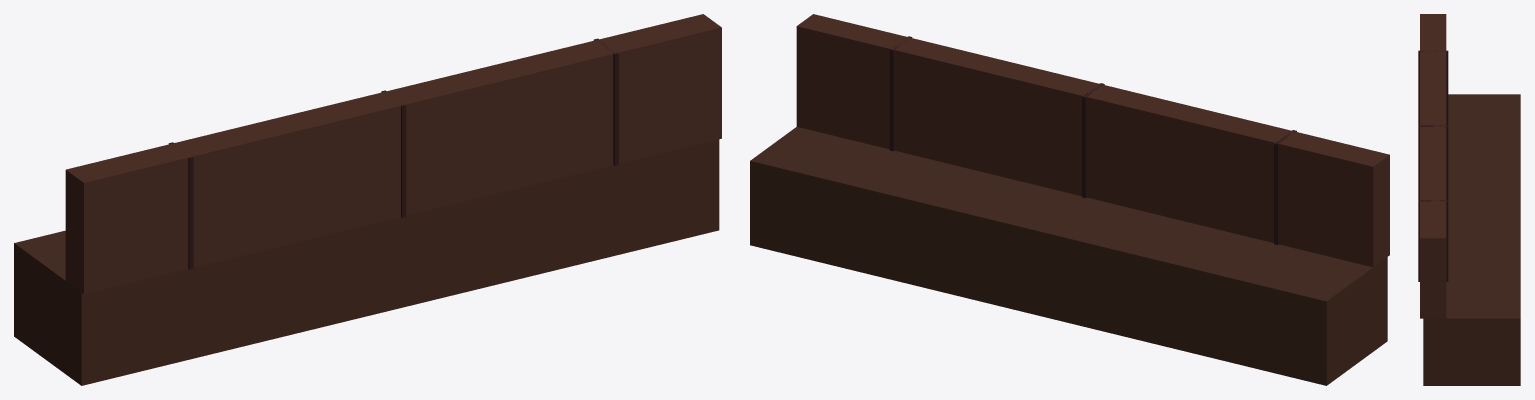
File: sofa_bench.glb
3 renders of one model, left to right at view 1: azimuth 30°, elevation 25°; view 2: azimuth 150°, elevation 25°; view 3: azimuth 270°, elevation 25°, orthographic. The views are drawn at different scales.
Parts seen in each view (by area): view 1: sofa_bench; view 2: sofa_bench; view 3: sofa_bench.
Boxes of the visible parts, bbox=[...] form: sofa_bench: bbox=[14, 14, 721, 385]; sofa_bench: bbox=[750, 14, 1389, 385]; sofa_bench: bbox=[1418, 14, 1520, 385].
Size of the model in its own units: 3 by 0.92 by 0.58.
